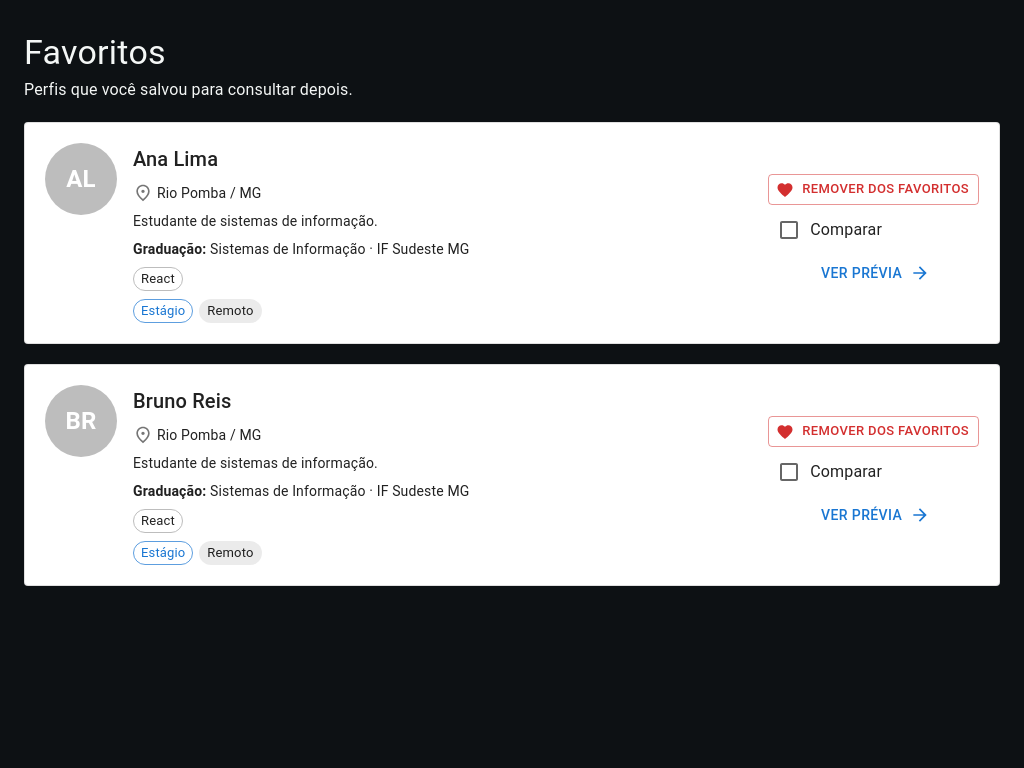
Test case: FavoritesView › changing favorites › refreshes the list after removing a favorite
Expected: the heading "Ana Lima" is shown, [133,143,218,175]
What coordinates should you click on to do the following:
click the 1st button "Remover dos favoritos"
I would click on:
 (874, 190)
Its box is [768,174,979,205].
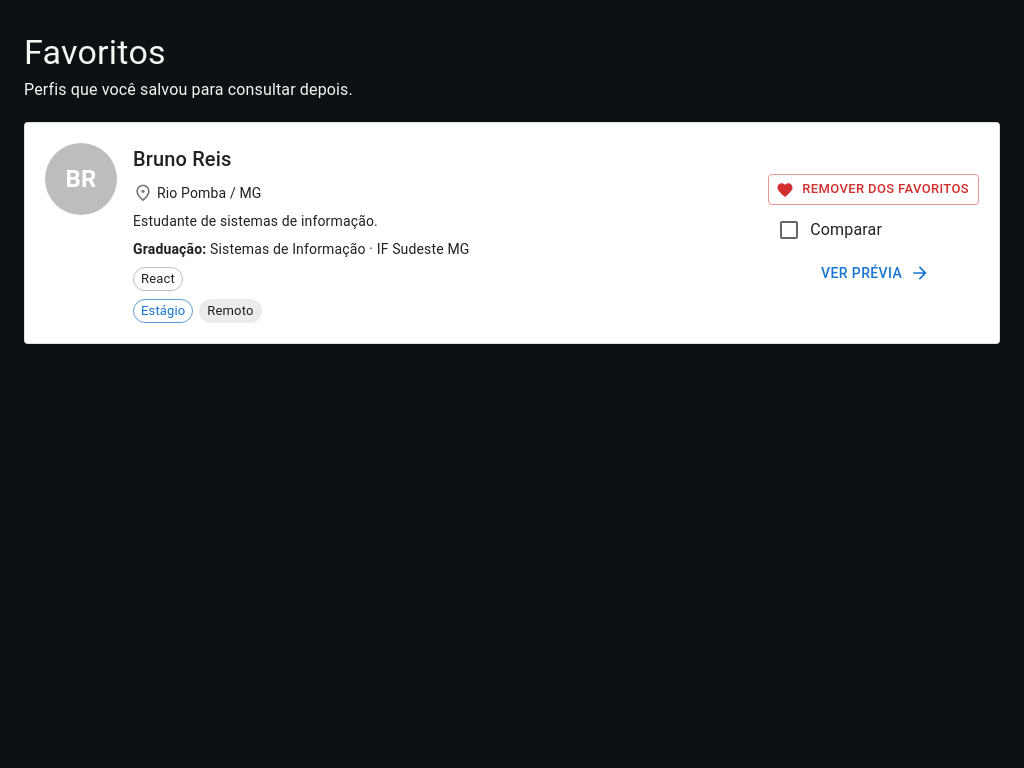
Expected: the heading "Bruno Reis" is shown, [133,143,231,175]
Expected: the heading "Ana Lima" is gone
